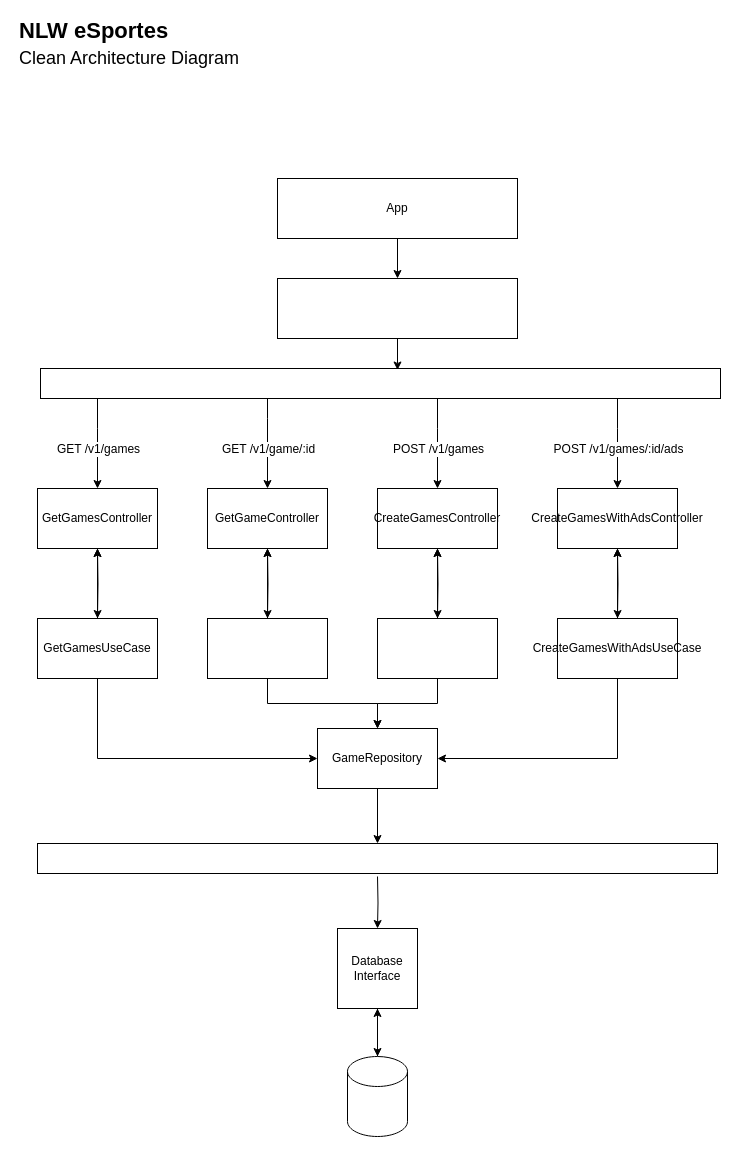
Image size: 738x1154. Some labels were removed from this diagram. The shapes that lost their labels are listed below. From the top down, each one's centre as x and y in pixels, then its label:
(x=397, y=308): Router
(x=267, y=648): GetGameUseCase
(x=437, y=648): CreateGamesUseCase
(x=377, y=1096): DB
